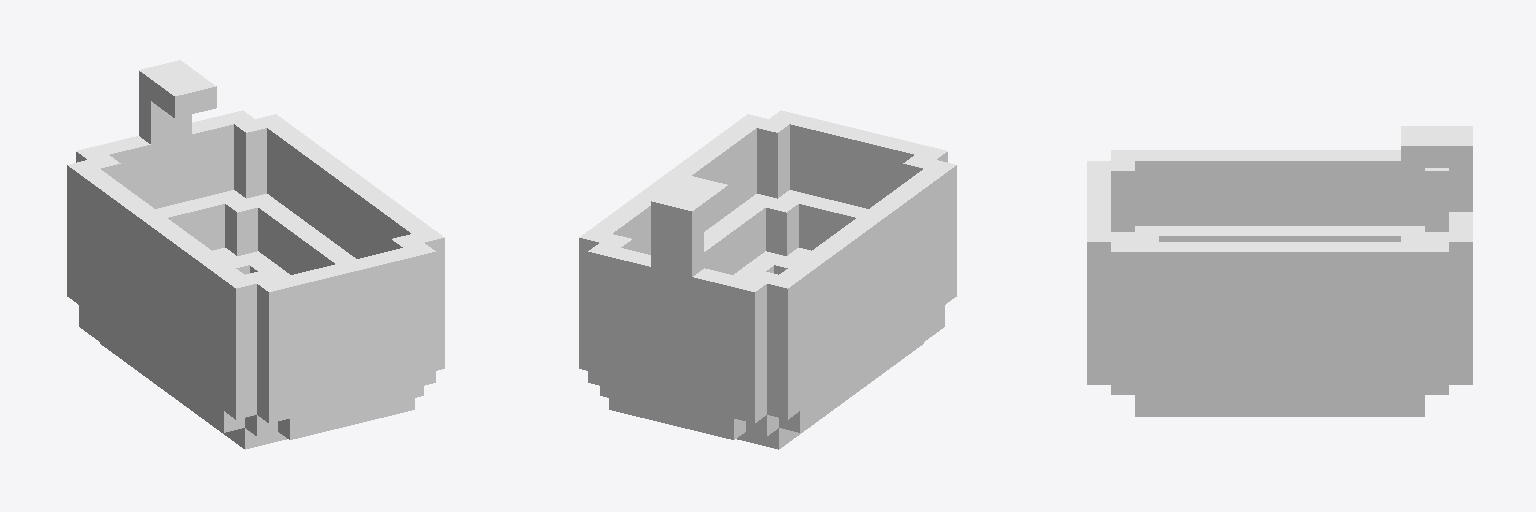
File: Bathtub_Golden.obj
3 views of the same model, side by side, from view 1: azimuth 30°, elevation 25°; view 2: azimuth 150°, elevation 25°; view 3: azimuth 270°, elevation 25° (orthographic).
Visible parts, largest first — view 1: Bathtub_Golden; view 2: Bathtub_Golden; view 3: Bathtub_Golden.
Part boxes in pixels (bbox=[...]): Bathtub_Golden: bbox=[67, 60, 444, 449]; Bathtub_Golden: bbox=[579, 110, 956, 449]; Bathtub_Golden: bbox=[1087, 126, 1472, 416].
Size of the model in its own units: 10 by 11 by 16.